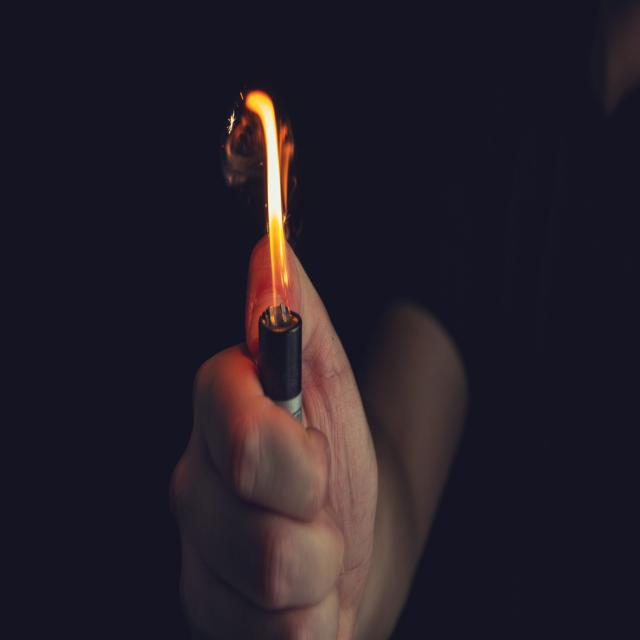fire: (246, 90, 290, 316)
